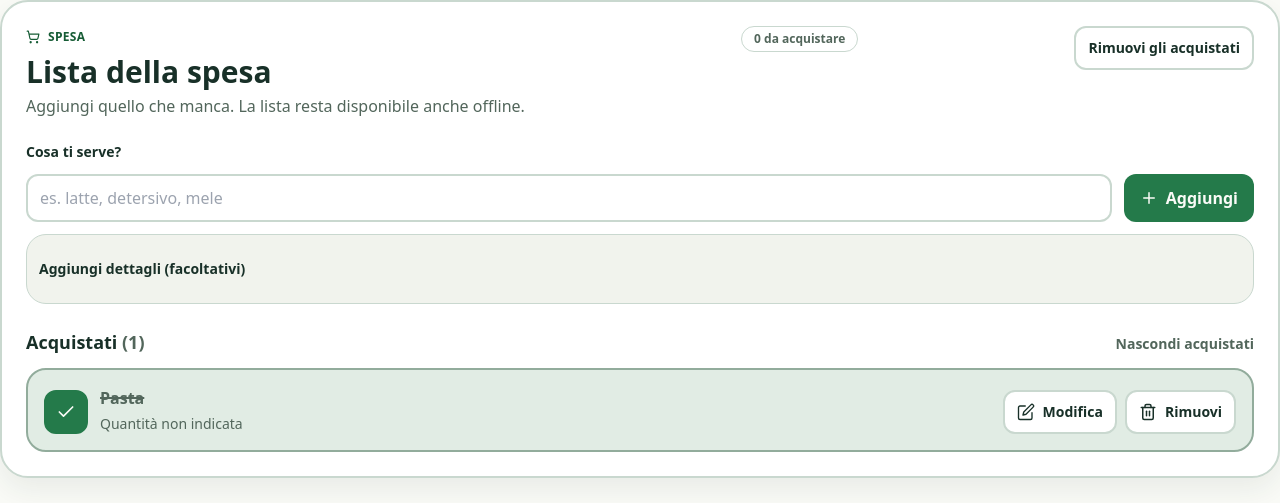
Scenario: ShoppingListPanel › ShoppingListPanel — sezione "Acquistati" toggle mostra/nascondi › nasconde e mostra la sezione acquistati al click sul toggle
Expected: the heading "Acquistati (1)" is shown, x1=26 y1=328 x2=144 y2=356
Click the button "Nascondi acquistati": (1185, 344) x1=1116 y1=334 x2=1254 y2=354
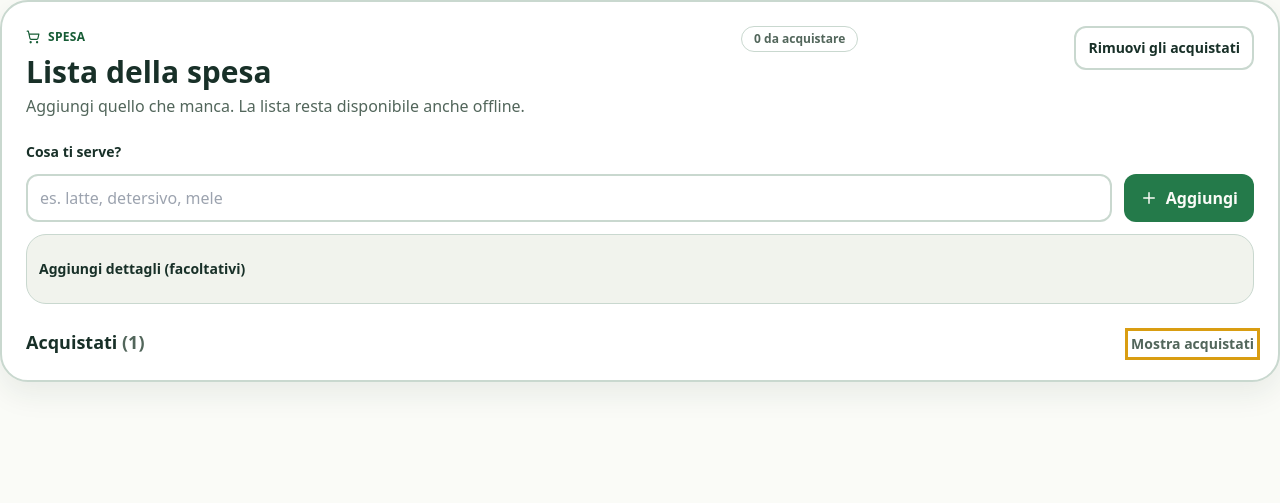
Expected: the button "Mostra acquistati" is collapsed
Expected: the text "Pasta" is gone
Click the button "Mostra acquistati": (1193, 344) x1=1131 y1=334 x2=1254 y2=354
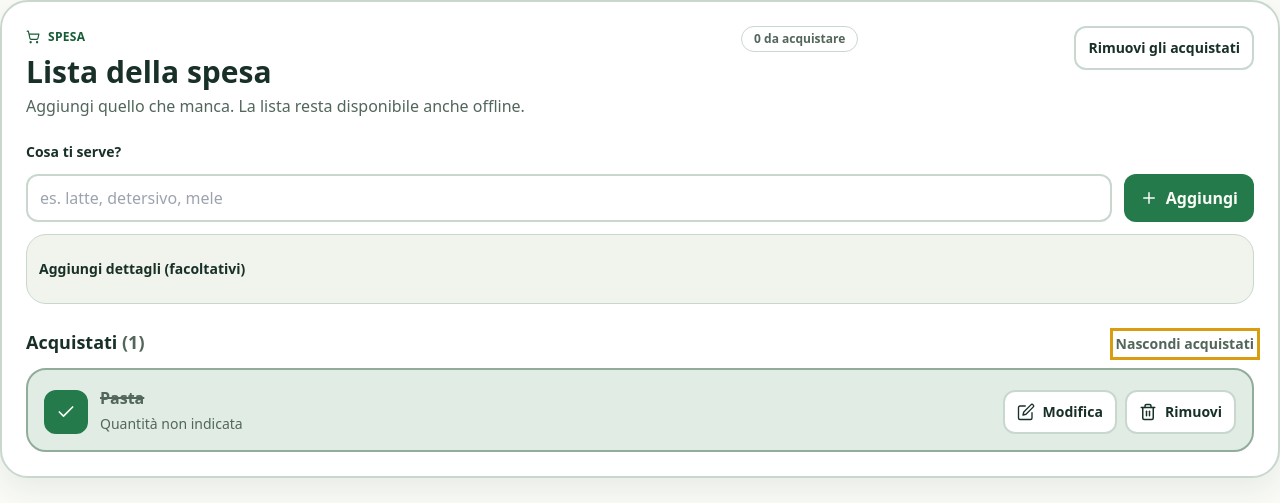
Expected: the button "Nascondi acquistati" is expanded, x1=1116 y1=334 x2=1254 y2=354
Expected: the text "Pasta" is shown, x1=100 y1=387 x2=144 y2=409
